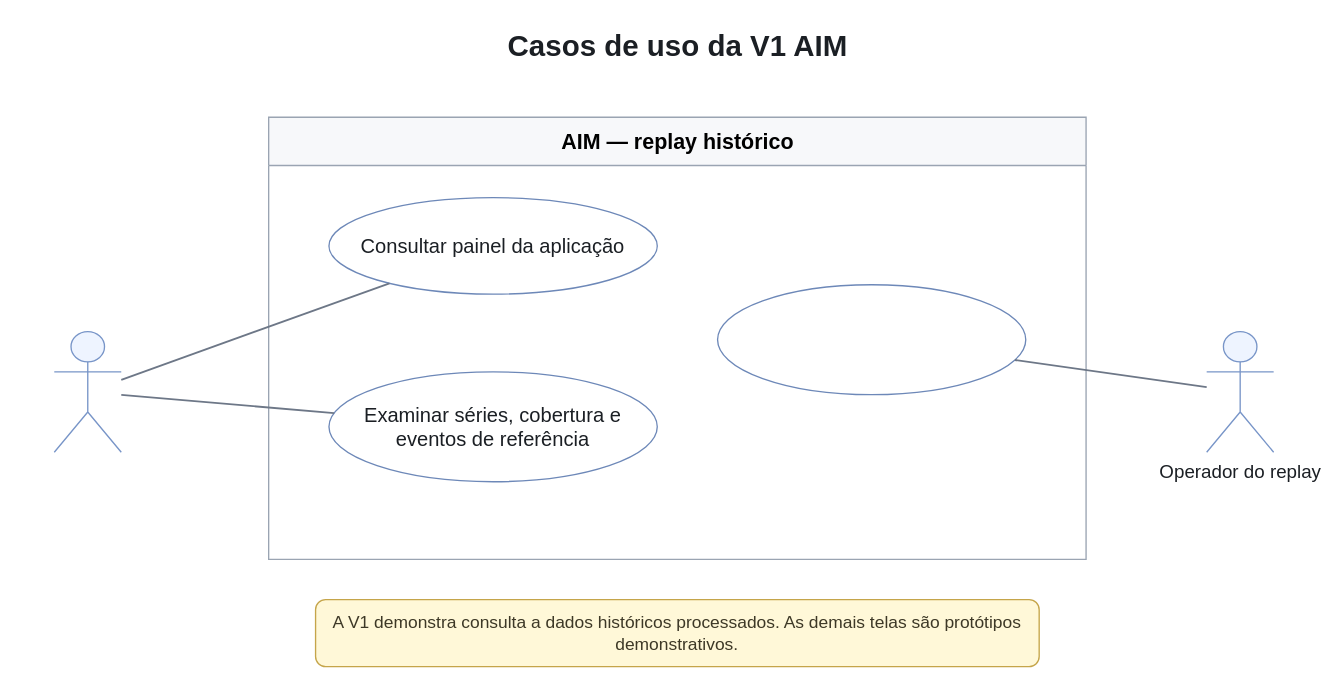
This 1344x690 diagram has some shape labels left out. Here are the shapes that lost their labels. From the top down, the centre of each, then its label:
point (871, 339): Preparar e executar replay histórico
point (87, 391): Usuário técnico
